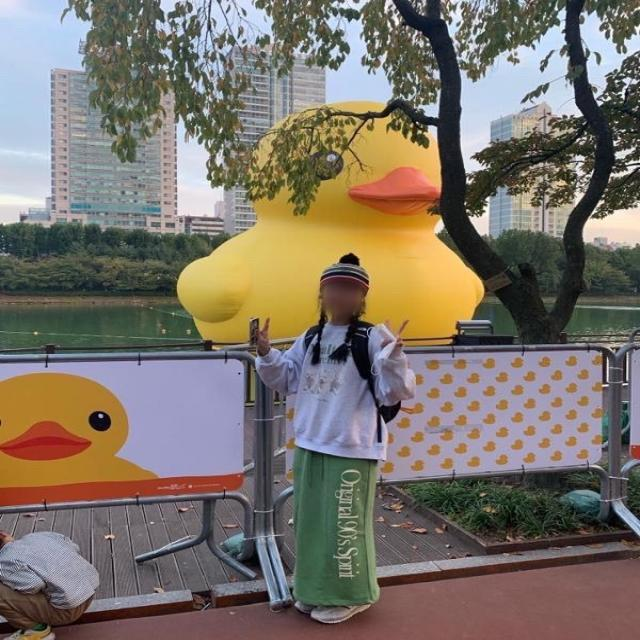mtm: (257, 321, 415, 461)
skirt: (293, 444, 383, 605)
